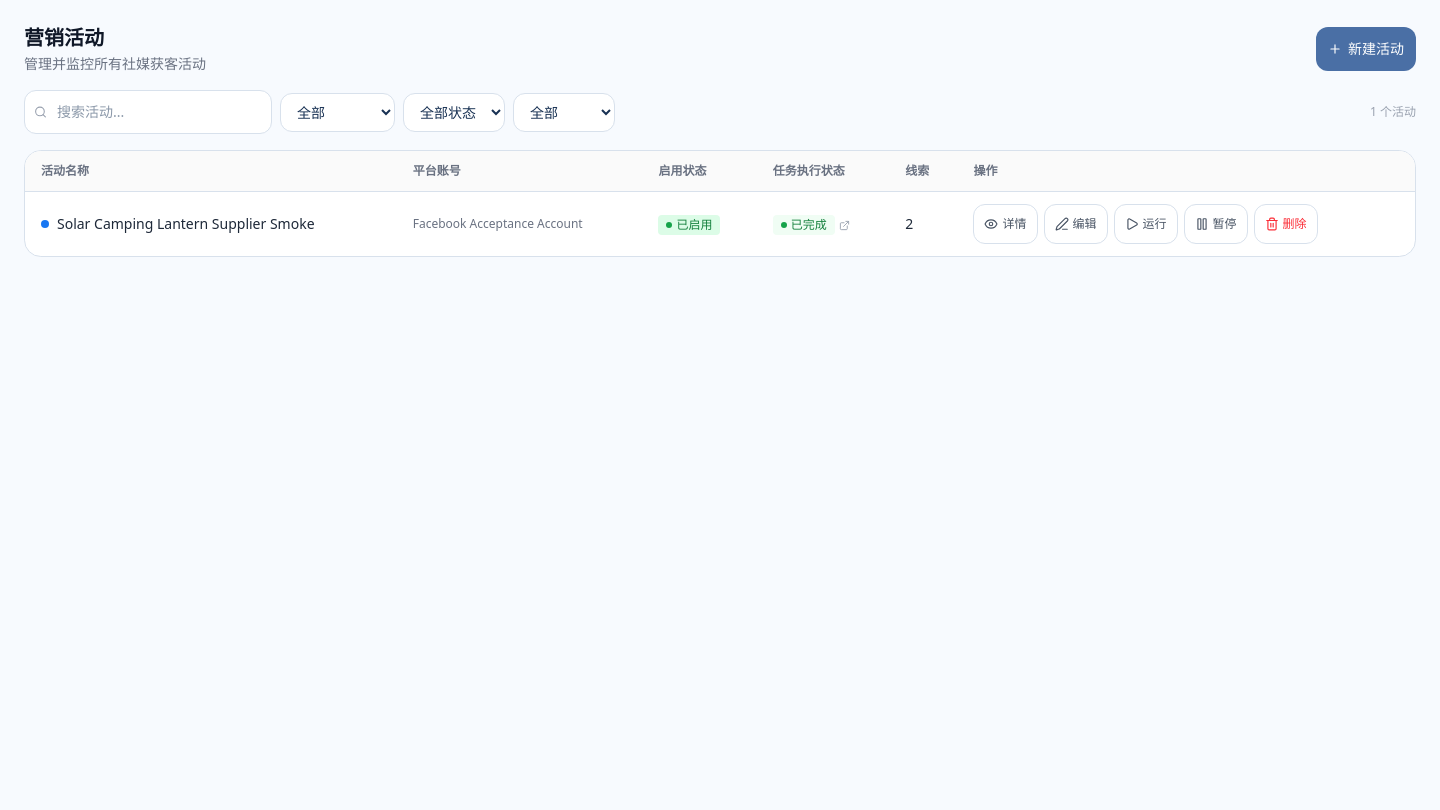
Scenario: campaigns page › keeps the list compact and moves detailed fields into the details modal
expect the column heading "关键词" is not shown: met
expect the button with aria-label "编辑设置 Solar Camping Lantern Supplier Smoke" is shown: met, box [1044, 204, 1108, 244]
What coordinates should you click on to do the following:
click the button with aria-label "查看详情 Solar Camping Lantern Supplier Smoke"
I would click on:
 (1006, 224)
Its box is [974, 204, 1038, 244].
(page scrolled)
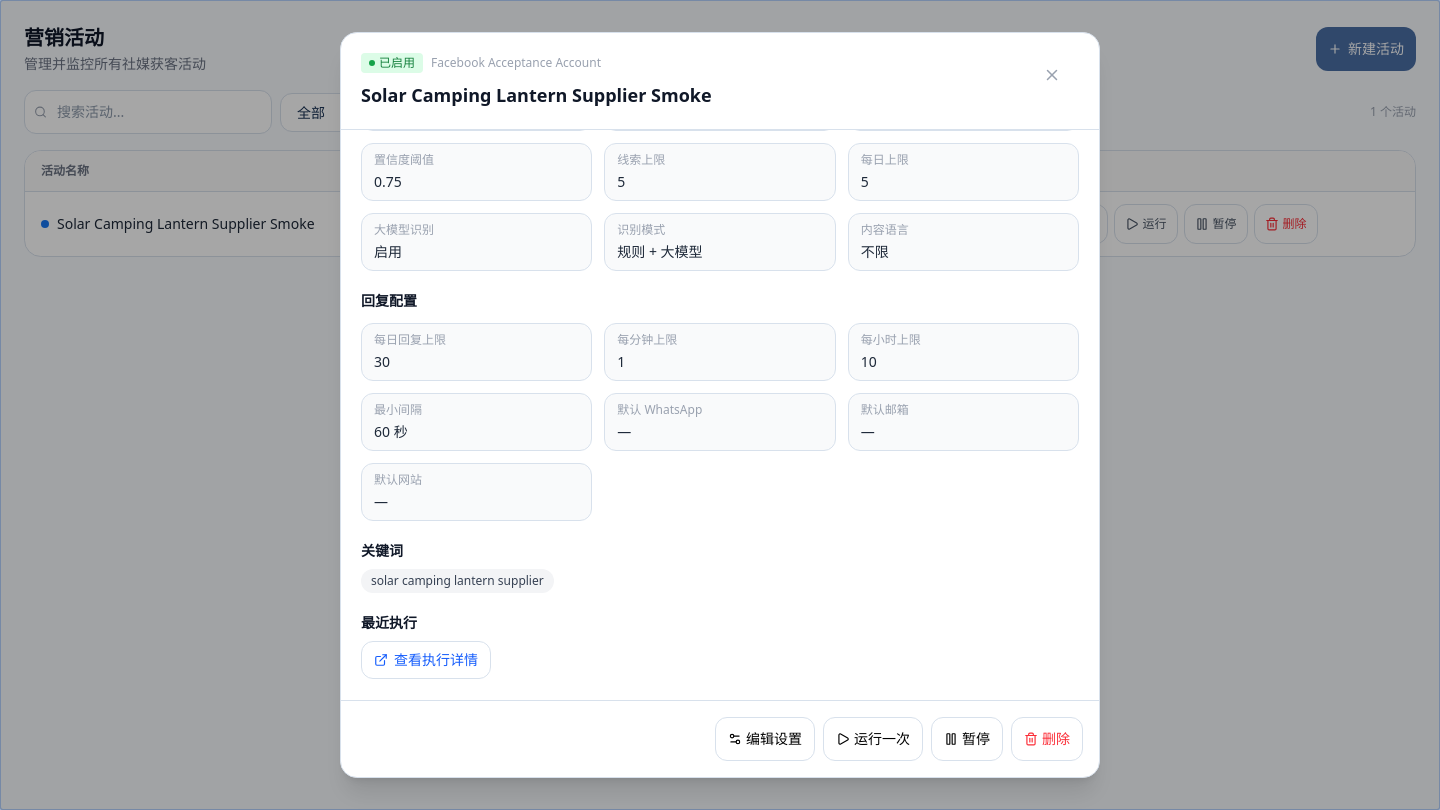
expect the dialog is shown: met
expect the heading "回复配置" is shown: met, box [361, 291, 417, 310]
expect the text "规则 + 大模型" is shown: met, box [617, 242, 703, 261]
